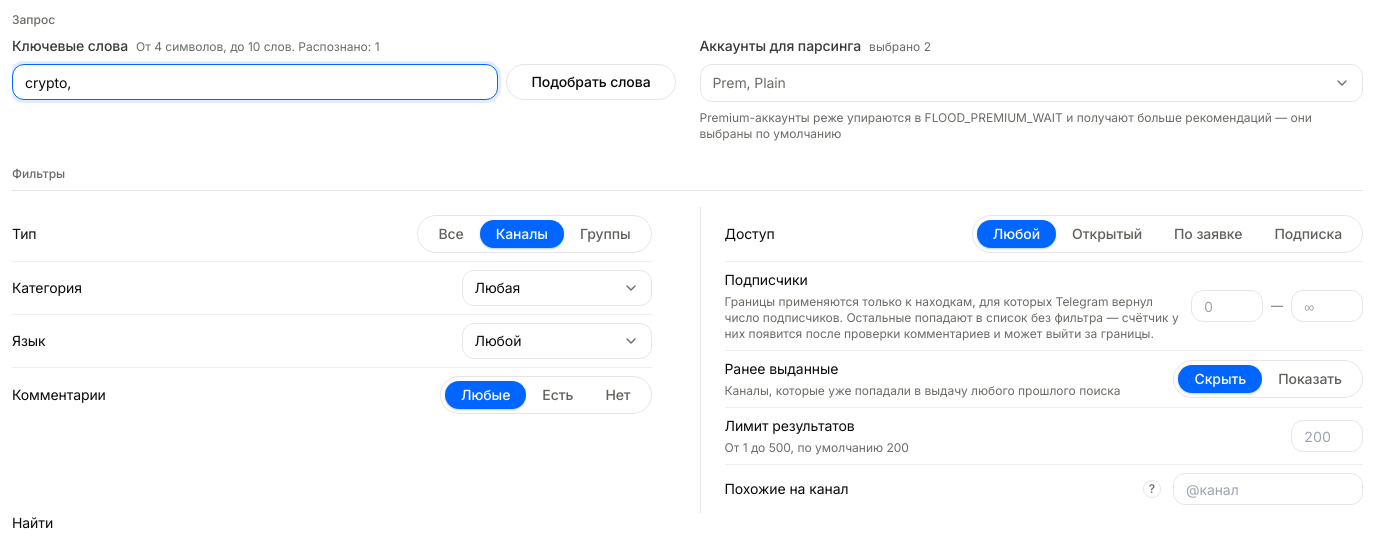
Scenario: DiscoveryForm keyword suggester › adds only the suggestions that survive the merge
The image size is (1378, 546).
Step 1. Click the button "Подобрать слова" → (591,82), box top-left (506, 64), bottom-right (676, 100)
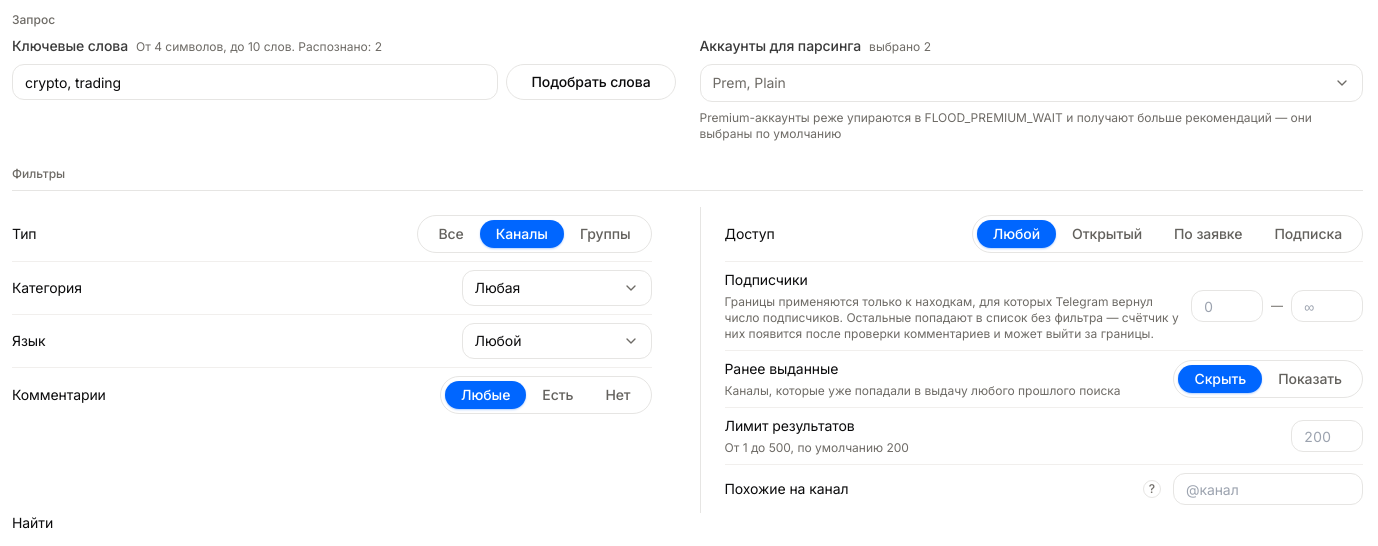
Result: the field with placeholder "крипта, трейдинг, новости" holds "crypto, trading" at top-left (12, 64), bottom-right (498, 100)
